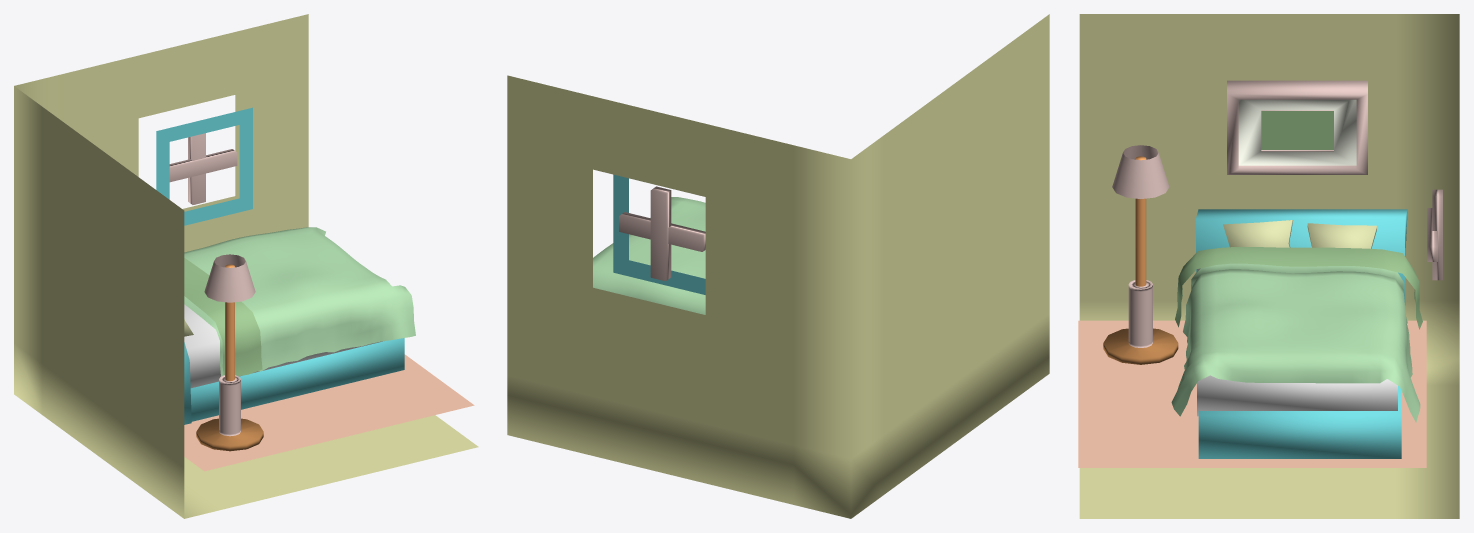
The model's file is bed_kannsei.glb.
3 views of the same model, side by side, from view 1: azimuth 30°, elevation 25°; view 2: azimuth 150°, elevation 25°; view 3: azimuth 270°, elevation 25° (orthographic). The views are drawn at different scales.
Parts seen in each view (by area): view 1: Cube, Plane.001, Cube.001, Cube.002, Cube.007, Cylinder, Plane.002, Cube.008, Cylinder.001, Cube.004, Cube.009; view 2: Cube, Plane.001, Cube.007, Cube.009, Cube.004; view 3: Cube, Plane.001, Cube.001, Cube.010, Cube.002, Cube.008, Cube.003, Plane.002, Cylinder, Cube.011, Cylinder.001, Cube.006 (+3 smaller).
Part boxes in pixels (box(x1,y1,x2,y2)): Cube: box(14, 14, 478, 518); Plane.001: box(184, 227, 415, 376); Cube.001: box(184, 354, 474, 471); Cube.002: box(190, 338, 404, 421); Cube.007: box(156, 107, 252, 225); Cylinder: box(196, 264, 263, 451); Plane.002: box(184, 258, 262, 376); Cube.008: box(184, 304, 382, 388); Cylinder.001: box(204, 254, 255, 302); Cube.004: box(169, 149, 237, 182); Cube.009: box(188, 133, 205, 204); Cube: box(507, 14, 1049, 518); Plane.001: box(593, 197, 705, 314); Cube.007: box(613, 174, 705, 294); Cube.009: box(650, 186, 671, 281); Cube.004: box(619, 212, 705, 251); Cube: box(1079, 14, 1459, 518); Plane.001: box(1171, 263, 1420, 422); Cube.001: box(1078, 320, 1426, 467); Cube.010: box(1227, 80, 1367, 174); Cube.002: box(1198, 386, 1401, 458); Cube.008: box(1197, 268, 1397, 416); Cube.003: box(1195, 209, 1407, 304); Plane.002: box(1175, 247, 1422, 329); Cylinder: box(1103, 156, 1178, 364); Cube.011: box(1261, 111, 1333, 149); Cylinder.001: box(1112, 145, 1169, 198); Cube.006: box(1223, 220, 1292, 247).
Size of what is drawn, in the model's own units: 2 by 2 by 2.01.
